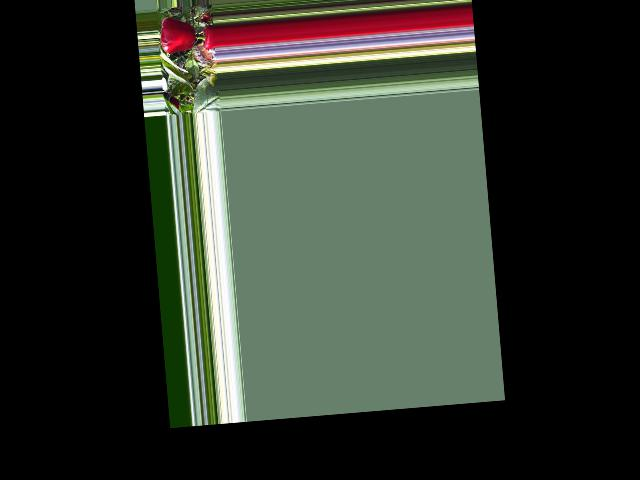bell_pepper: (199, 23, 216, 52)
